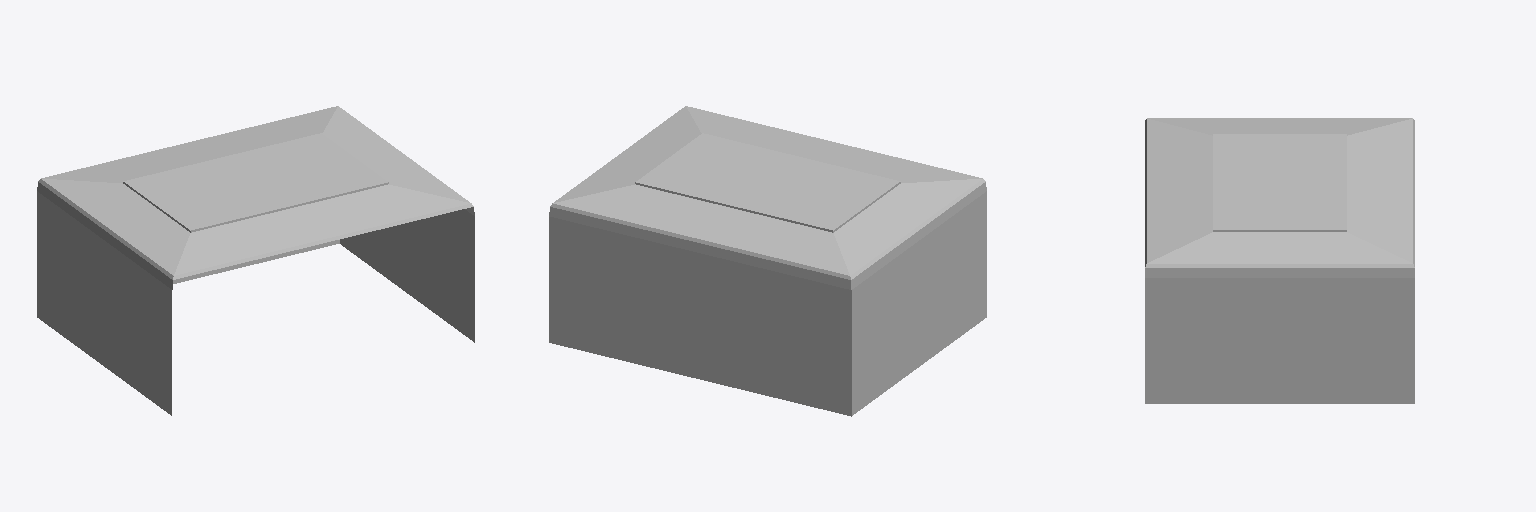
Rendered from walls.obj.
The picture shows the model from 3 angles: view 1: azimuth 30°, elevation 25°; view 2: azimuth 150°, elevation 25°; view 3: azimuth 270°, elevation 25°; orthographic projection.
Visible parts, largest first — view 1: walls; view 2: walls; view 3: walls.
Part boxes in pixels (bbox=[...]): walls: bbox=[37, 106, 474, 415]; walls: bbox=[549, 106, 986, 416]; walls: bbox=[1145, 118, 1414, 403].
Size of the model in its own units: 7.5 by 3.51 by 5.81.